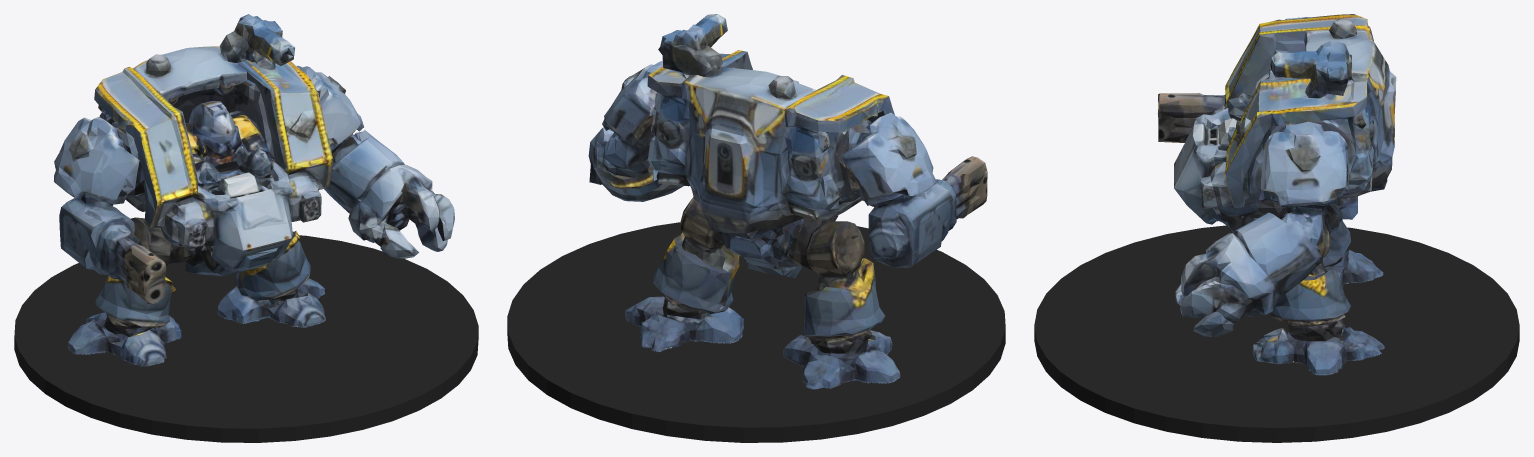
The model's file is sw-invictor.glb.
3 renders of one model, left to right at view 1: azimuth 30°, elevation 25°; view 2: azimuth 150°, elevation 25°; view 3: azimuth 270°, elevation 25°, orthographic. The views are drawn at different scales.
Visible parts, largest first — view 1: figure, base; view 2: figure, base; view 3: base, figure.
Boxes of the visible parts, x1=… form: figure: x1=54, y1=14, x2=454, y2=366; base: x1=14, y1=235, x2=478, y2=442; figure: x1=588, y1=14, x2=987, y2=389; base: x1=507, y1=222, x2=1005, y2=442; base: x1=1034, y1=225, x2=1519, y2=442; figure: x1=1157, y1=14, x2=1396, y2=375.
Size of the model in its own units: 3.54 by 2.52 by 3.54.
2 materials, 1 textured.
